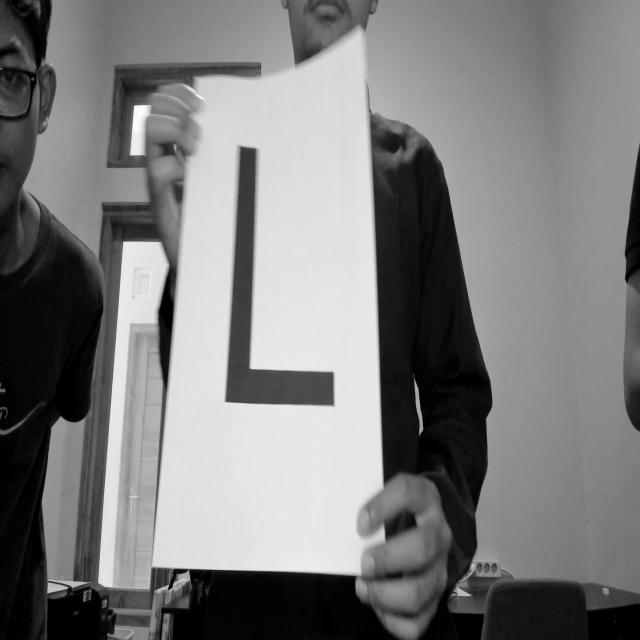l: (212, 122, 346, 444)
